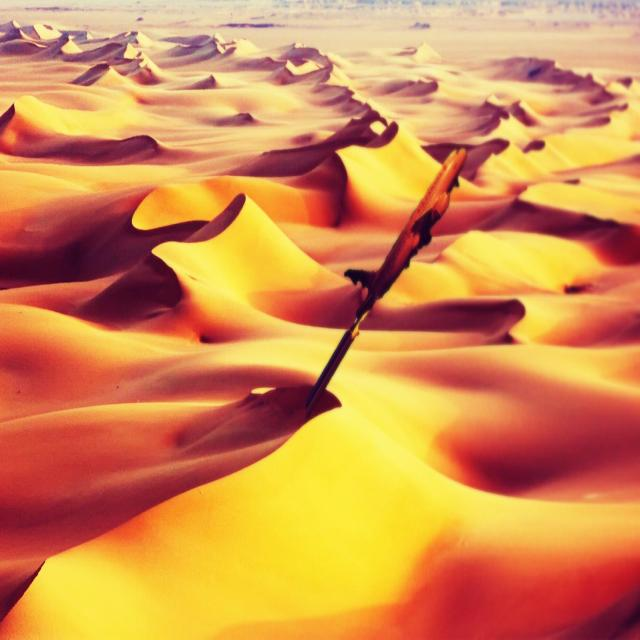airplane: (309, 148, 467, 404)
